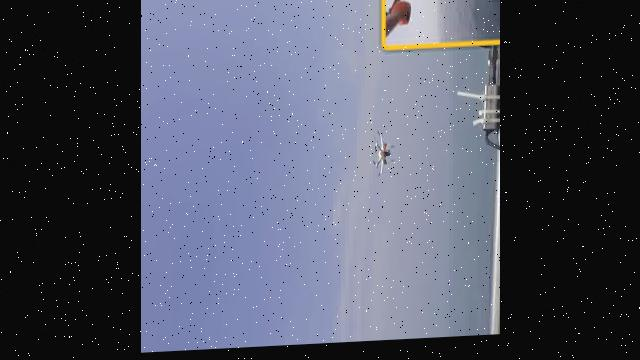drone: (366, 130, 398, 193)
